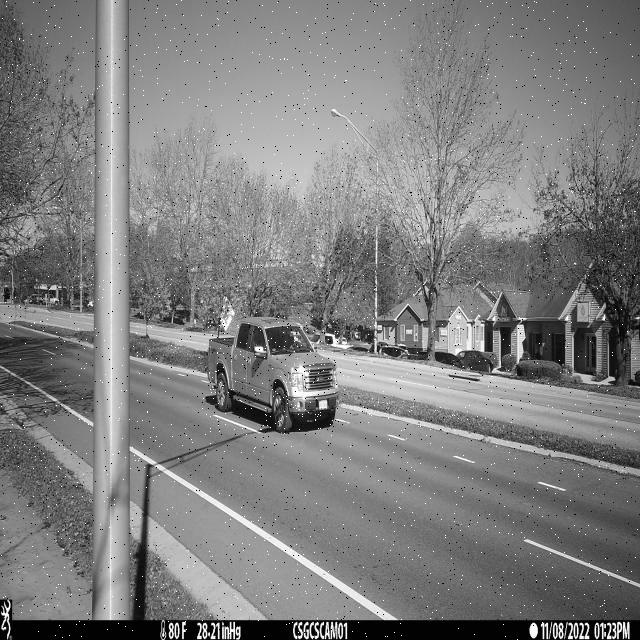Pickup: (208, 315, 340, 434)
